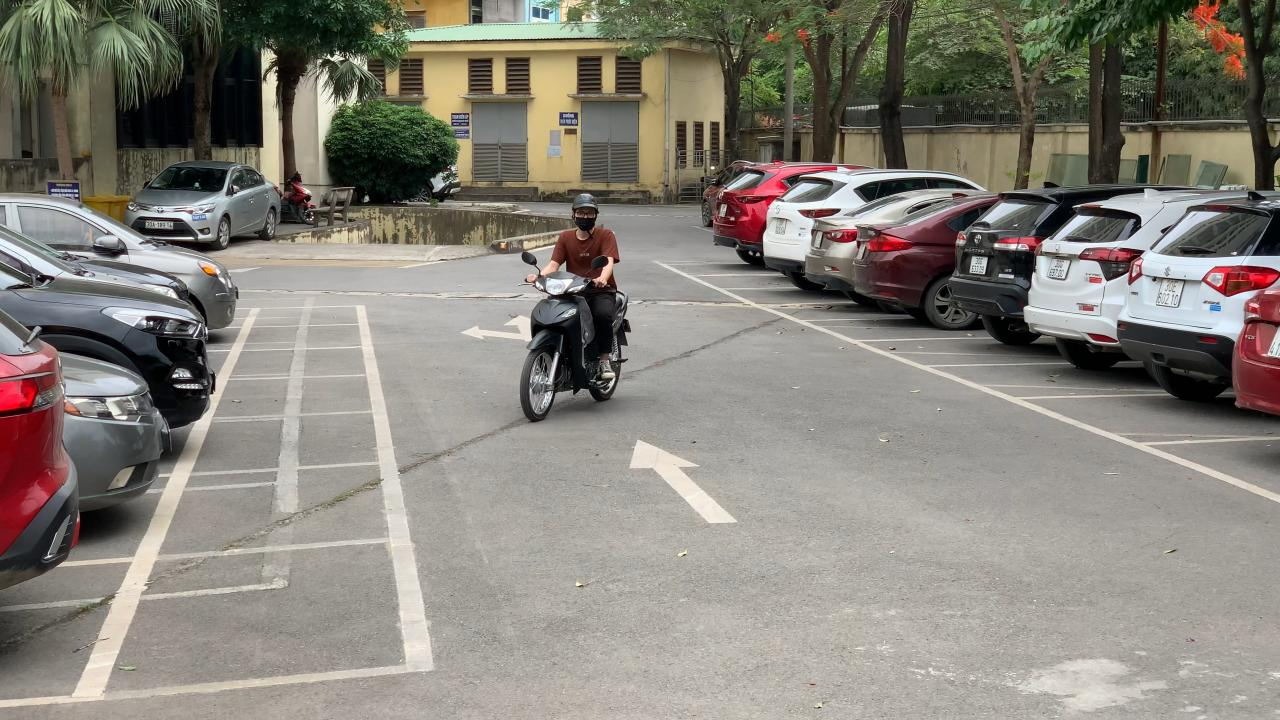helmet: (570, 194, 600, 210)
motorcyclist: (518, 191, 629, 421)
